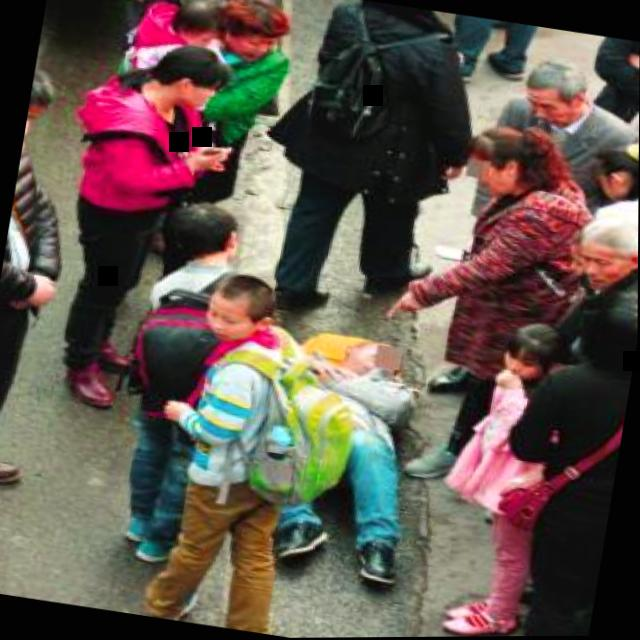Fall-Detected: (249, 320, 450, 589)
